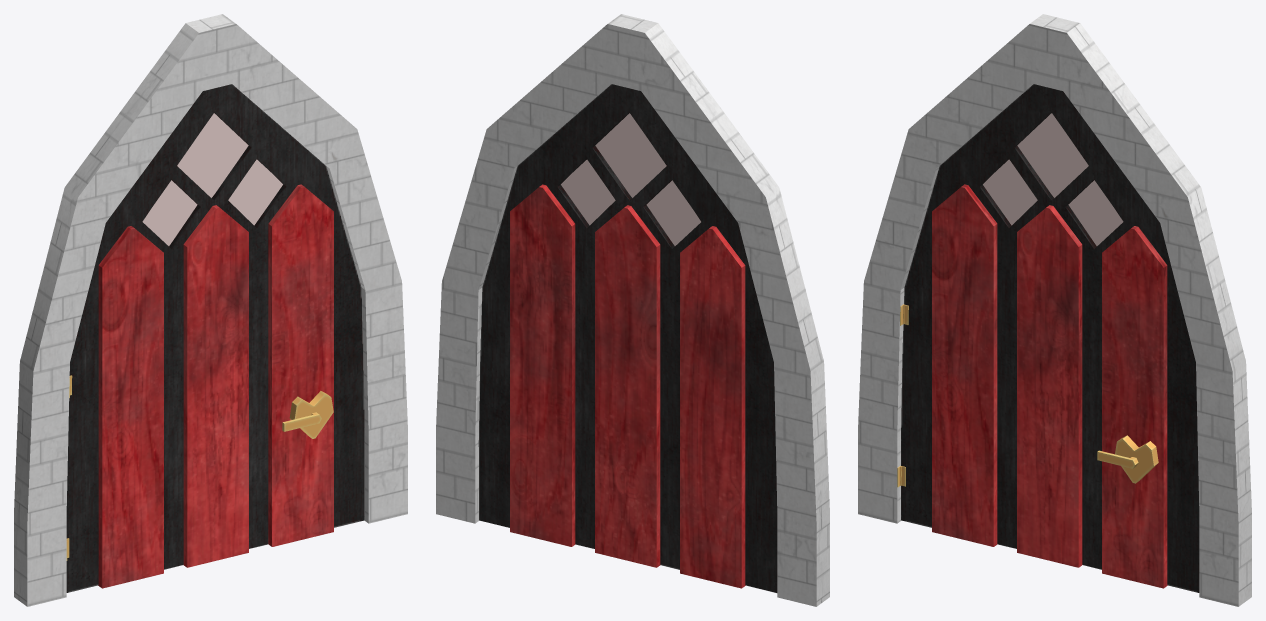
Rendered from door.fbx.
3 views of the same model, side by side, from view 1: azimuth 30°, elevation 25°; view 2: azimuth 150°, elevation 25°; view 3: azimuth 330°, elevation 25° (orthographic).
Visible parts, largest first — view 1: innerWood_geo, frame_geo, door_geo, windows_geo, heart_geo; view 2: innerWood_geo, frame_geo, door_geo, windows_geo; view 3: innerWood_geo, frame_geo, door_geo, windows_geo, heart_geo.
Boxes of the visible parts, x1,y1,x2,y2 form: innerWood_geo: (98, 184, 333, 588); frame_geo: (14, 14, 407, 606); door_geo: (66, 84, 364, 592); windows_geo: (142, 113, 282, 245); heart_geo: (289, 391, 333, 438); innerWood_geo: (510, 184, 745, 588); frame_geo: (436, 14, 829, 606); door_geo: (478, 84, 777, 592); windows_geo: (561, 113, 700, 245); innerWood_geo: (932, 184, 1167, 588); frame_geo: (858, 14, 1251, 606); door_geo: (901, 84, 1199, 592); windows_geo: (983, 113, 1123, 245); heart_geo: (1115, 435, 1158, 483).
Size of the model in its own units: 15.39 by 20.57 by 1.58.
